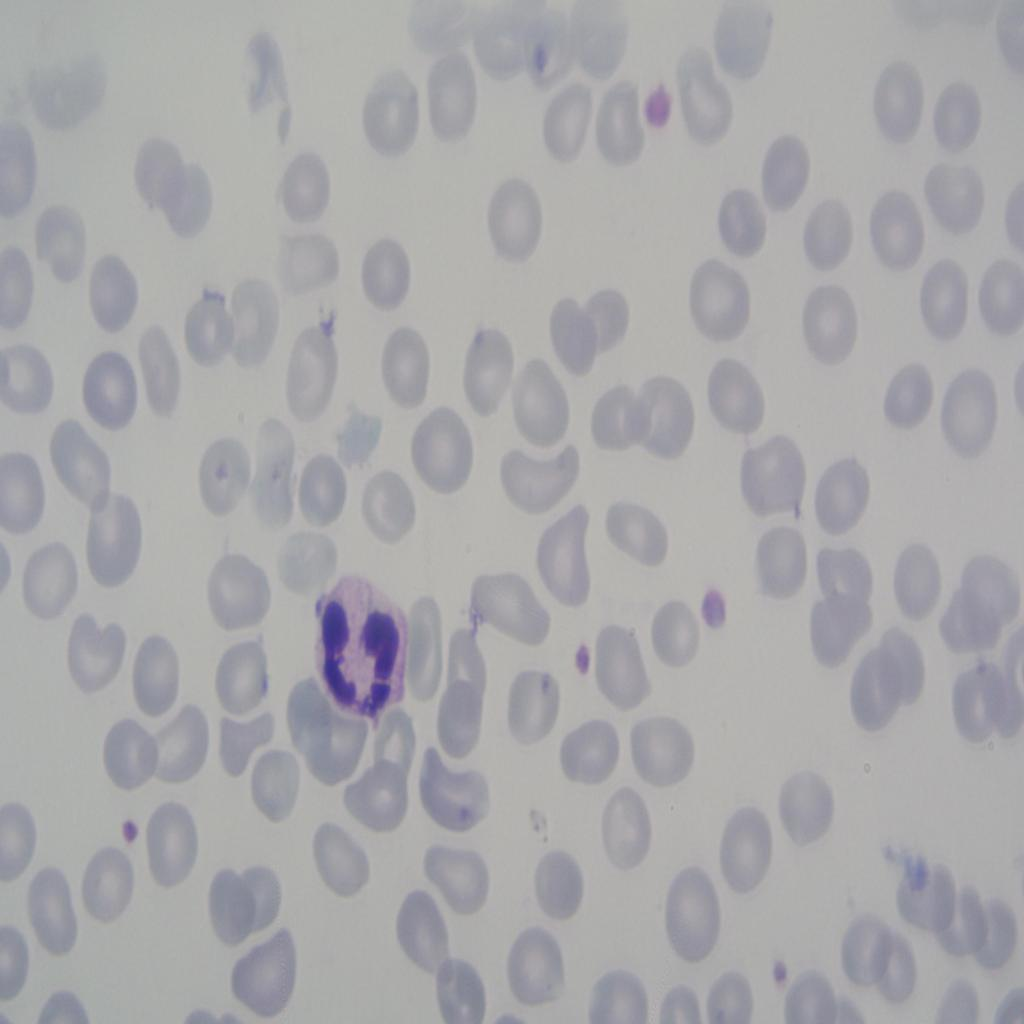Neutrofil: (309, 568, 414, 734)
Platelet: (696, 581, 734, 643), (636, 80, 685, 124), (116, 791, 144, 864), (568, 632, 598, 684), (774, 953, 796, 1003), (528, 45, 555, 71)
